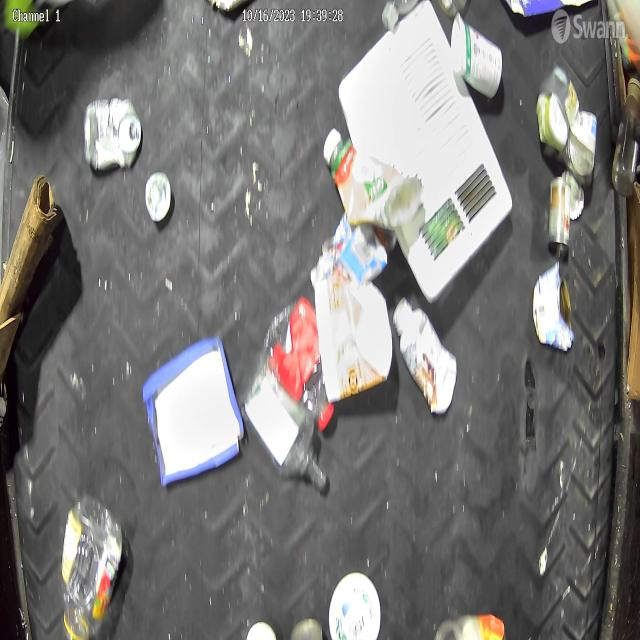can: (83, 95, 143, 176), (532, 260, 574, 354)
plastic_bottle: (241, 367, 328, 493), (62, 496, 125, 640), (610, 78, 640, 199)
